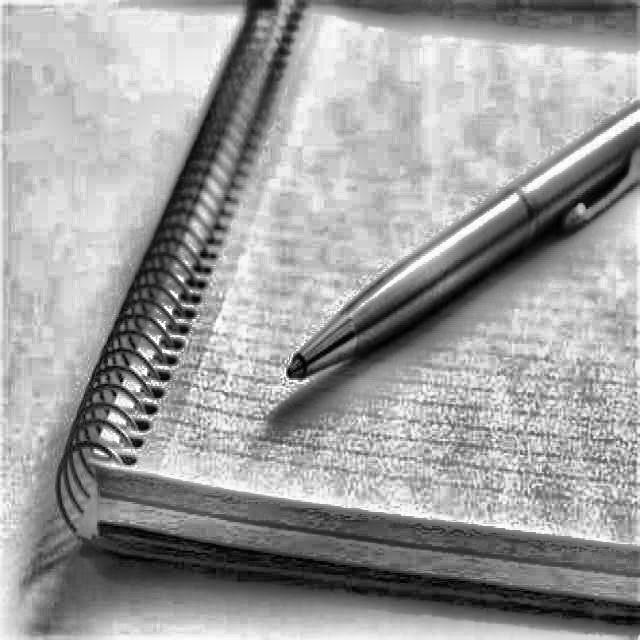Notebook: (47, 2, 639, 502)
Pen: (289, 100, 638, 362)
